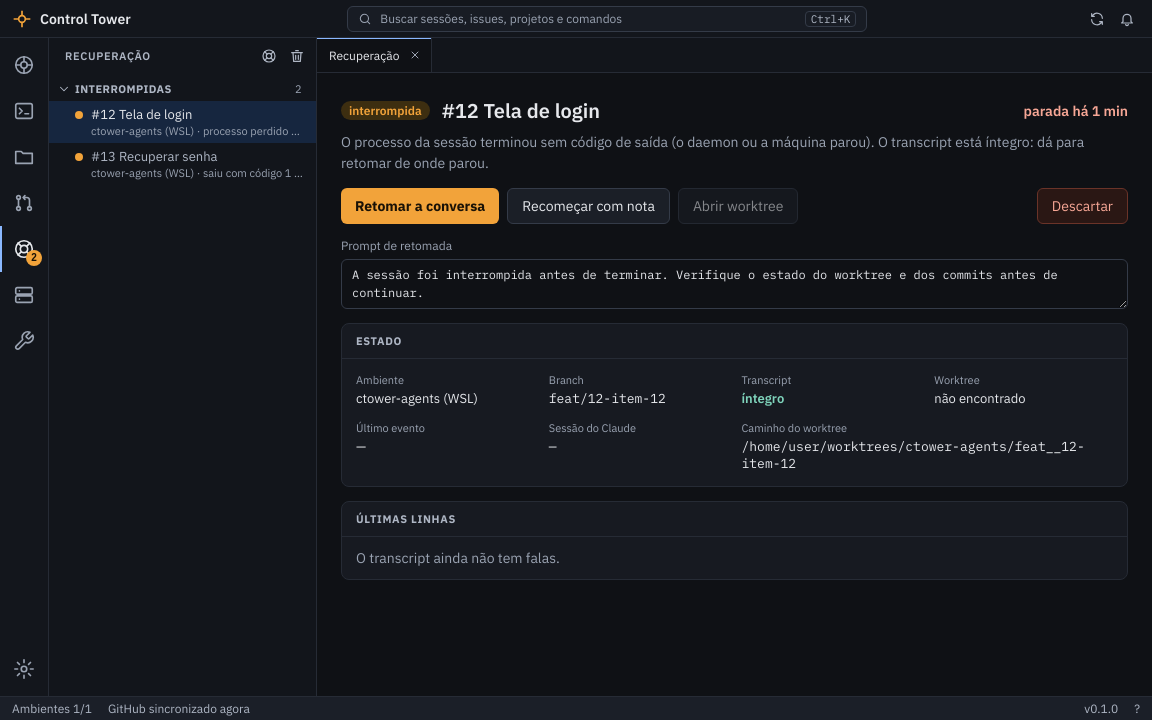
Test case: Recuperação: Descartar todas do ambiente mostra o resultado de cada uma
Expected: the button "Interrompidas 2" is shown, [49,77,310,101]
Click the button named "Descartar todas" at point(297, 56), box [284,42,310,68]
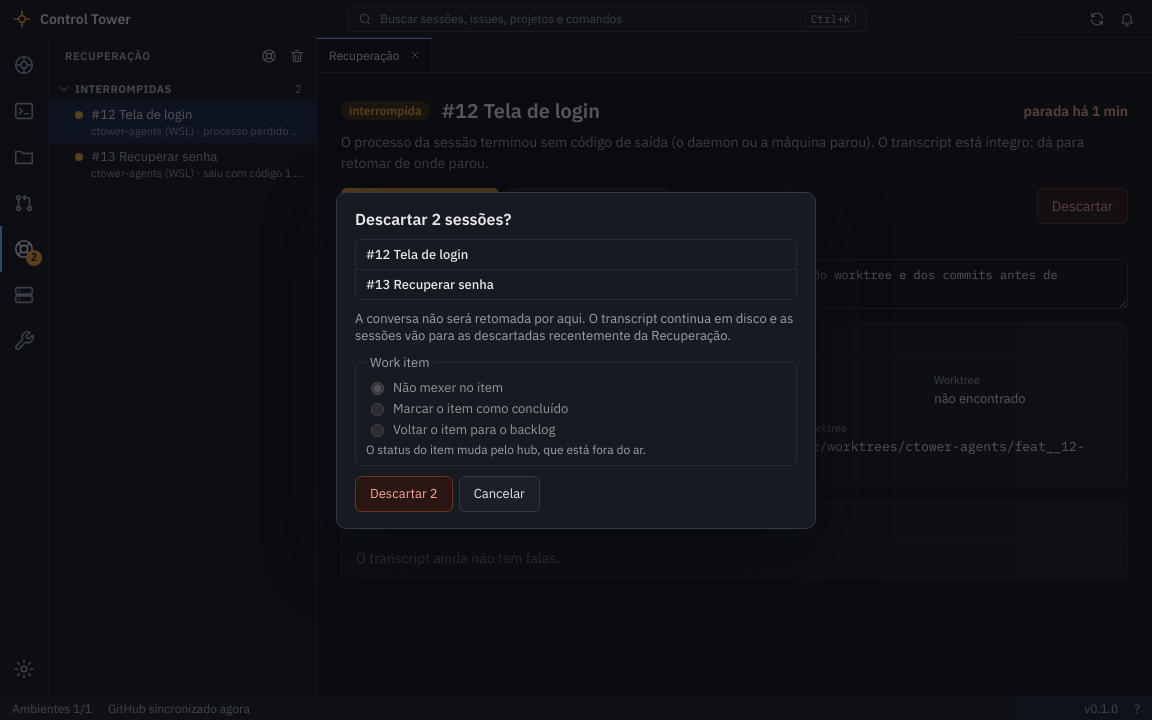
Now the heading reads "Descartar 2 sessões?", box [355,208,511,228]
Click the button "Descartar 2" at point(404, 494), box [355,476,453,512]
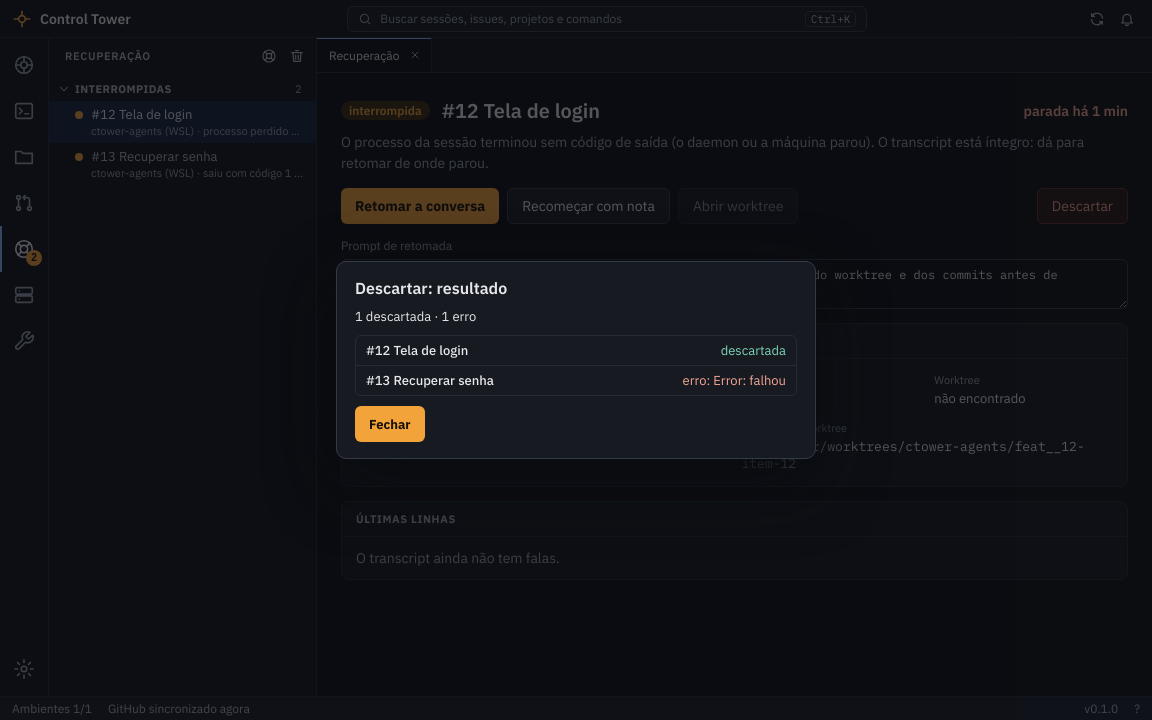
Now the list items read "#12 Tela de logindescartada", "#13 Recuperar senhaerro: Error: falhou", in this order, box [366,342,786,359]; [356,365,796,395]
Click the button "Fechar" at point(390, 424), box [355,406,425,442]
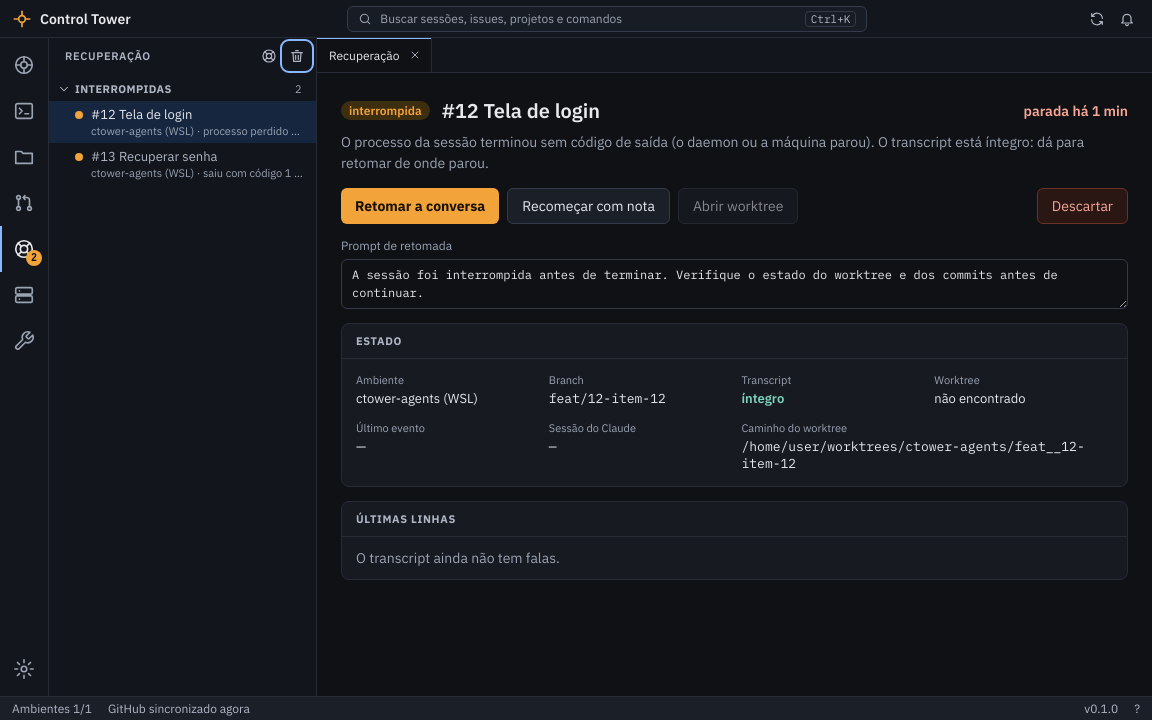
Now the dialog is gone
